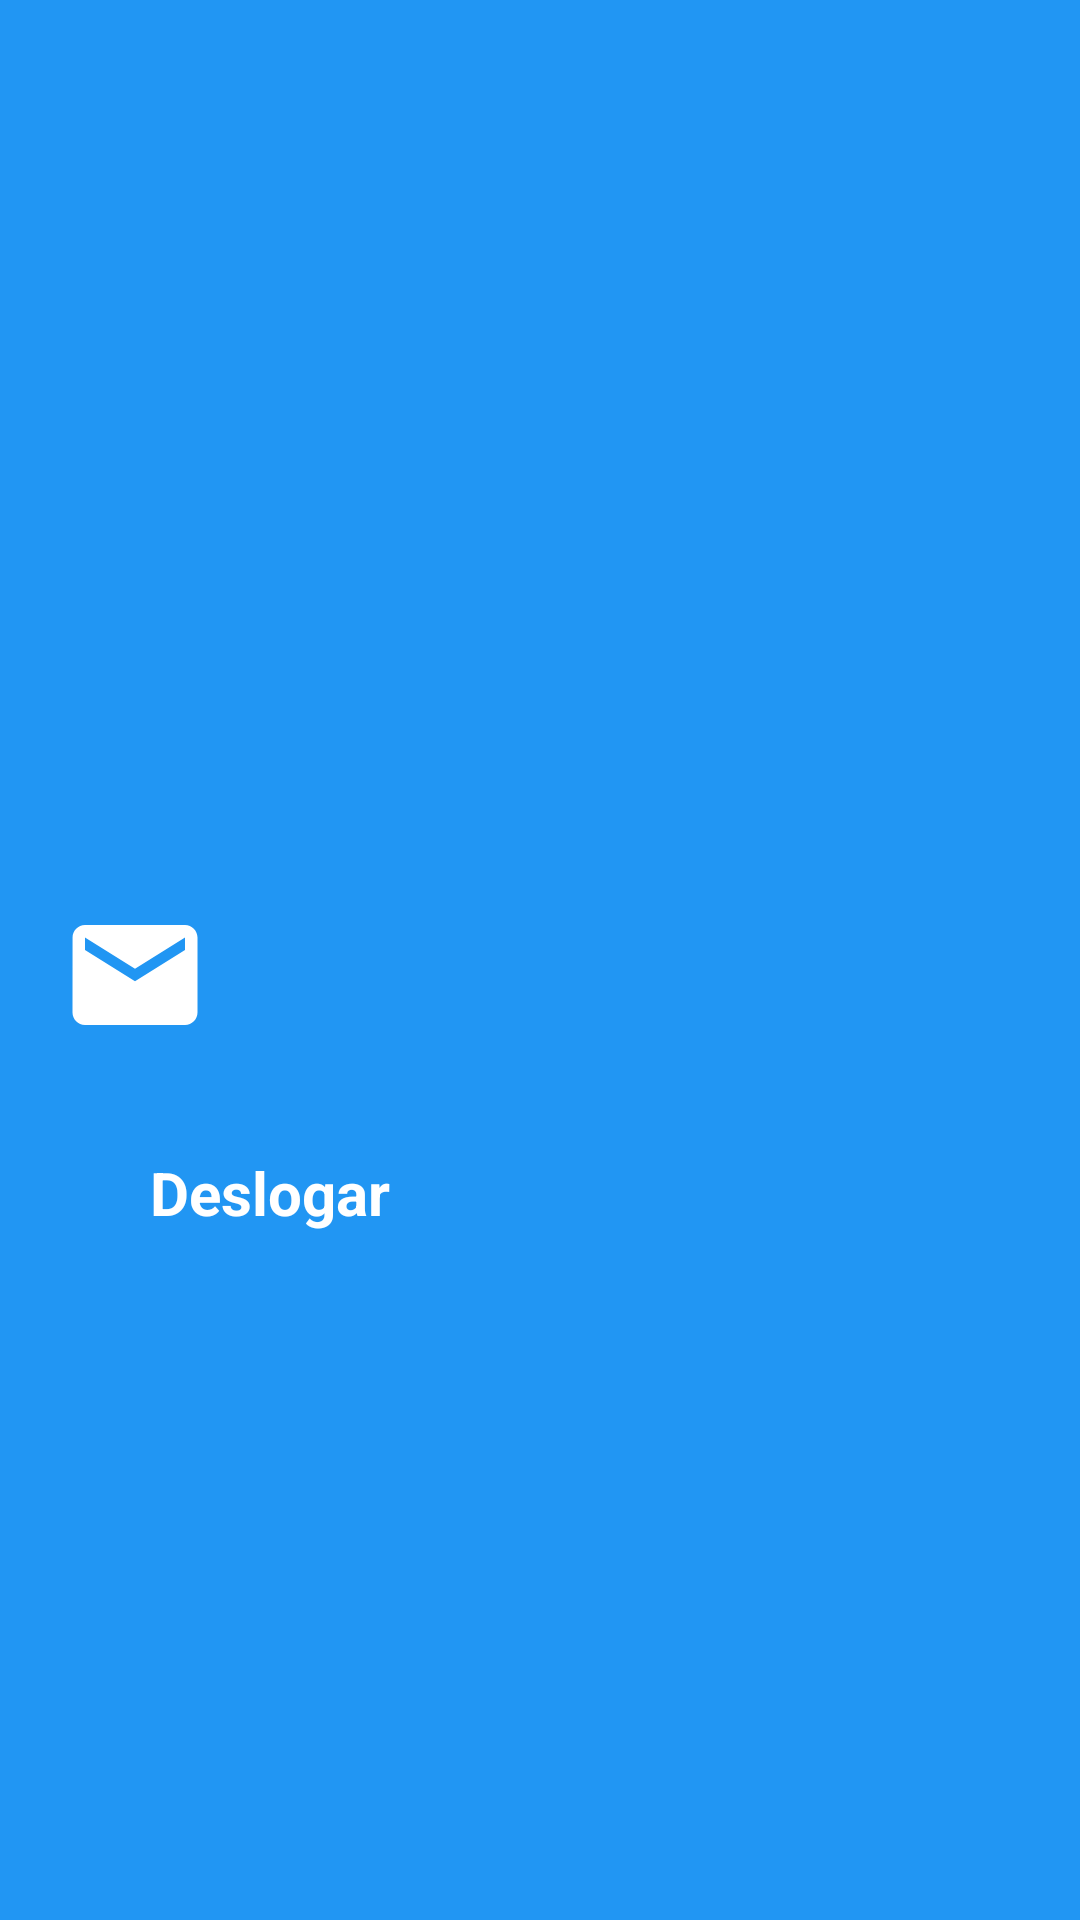

Named icons in this screenshot (1080px×1920px) and their centers, (x,y):
emailwhite: (135,975)
